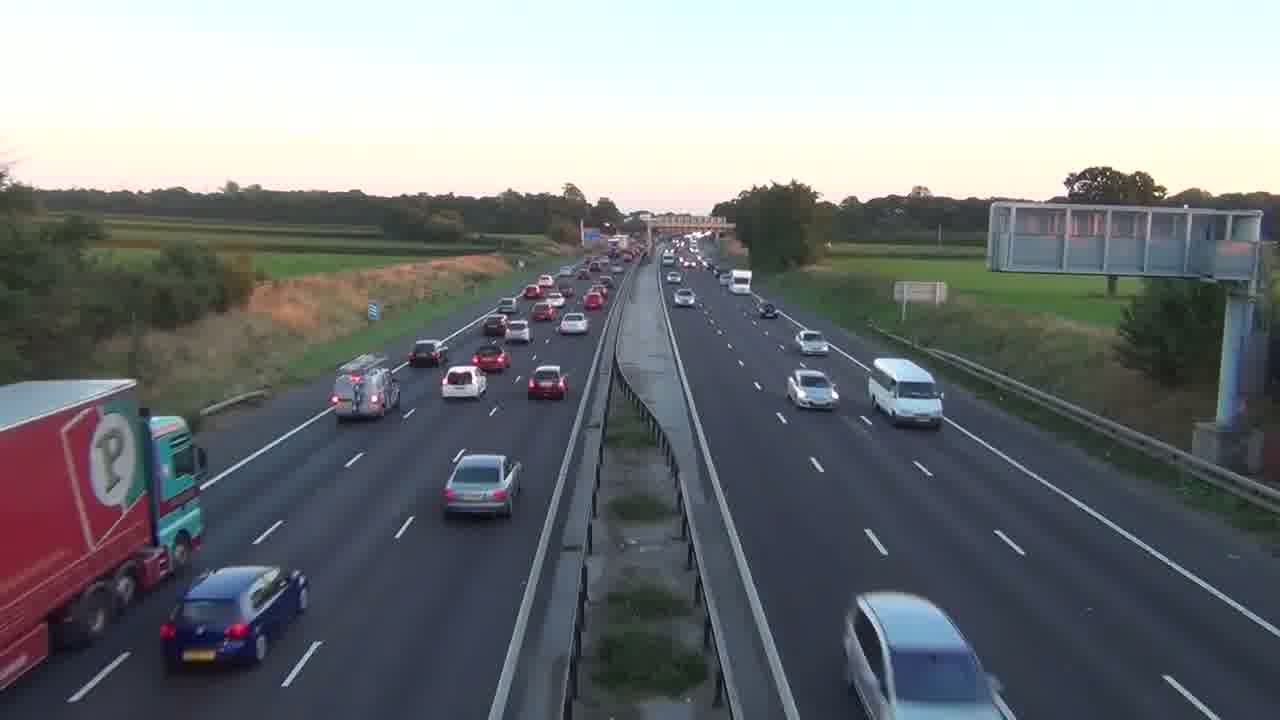car: (159, 562, 308, 673), (439, 450, 524, 519), (786, 366, 839, 410), (440, 365, 488, 399), (527, 364, 570, 401), (470, 342, 510, 373), (556, 307, 589, 335)
truck: (1, 376, 209, 691), (842, 589, 1019, 719), (866, 355, 945, 430)
